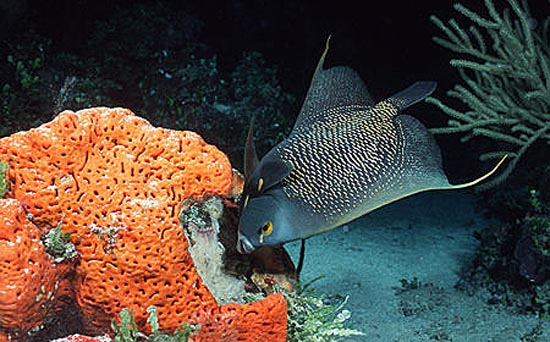Pomacanthus_paru: (220, 43, 502, 264)
